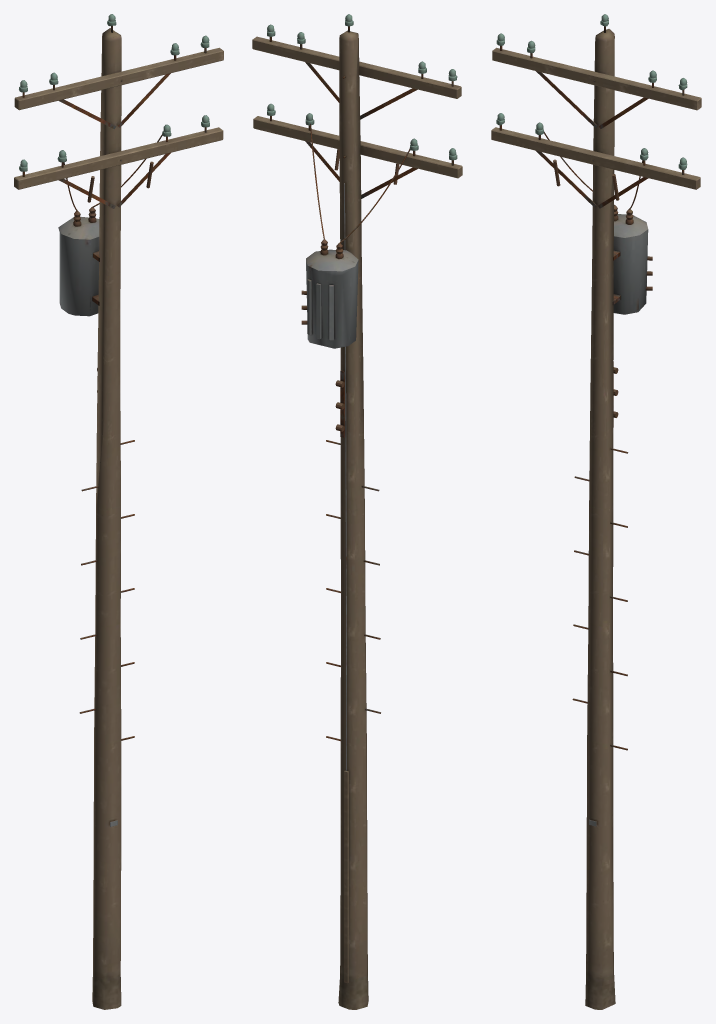
The model's file is utility_pole_xfmr-low.glb.
3 views of the same model, side by side, from view 1: azimuth 30°, elevation 25°; view 2: azimuth 150°, elevation 25°; view 3: azimuth 330°, elevation 25° (orthographic).
Visible parts, largest first — view 1: utility_pole_xfmr; view 2: utility_pole_xfmr; view 3: utility_pole_xfmr.
Boxes of the visible parts, x1,y1,x2,y2 form: utility_pole_xfmr: (14,14,223,1009); utility_pole_xfmr: (252,14,462,1009); utility_pole_xfmr: (491,14,701,1009).
Size of the model in its own units: 2.45 by 11.21 by 1.08.
4 materials, 4 textured.
